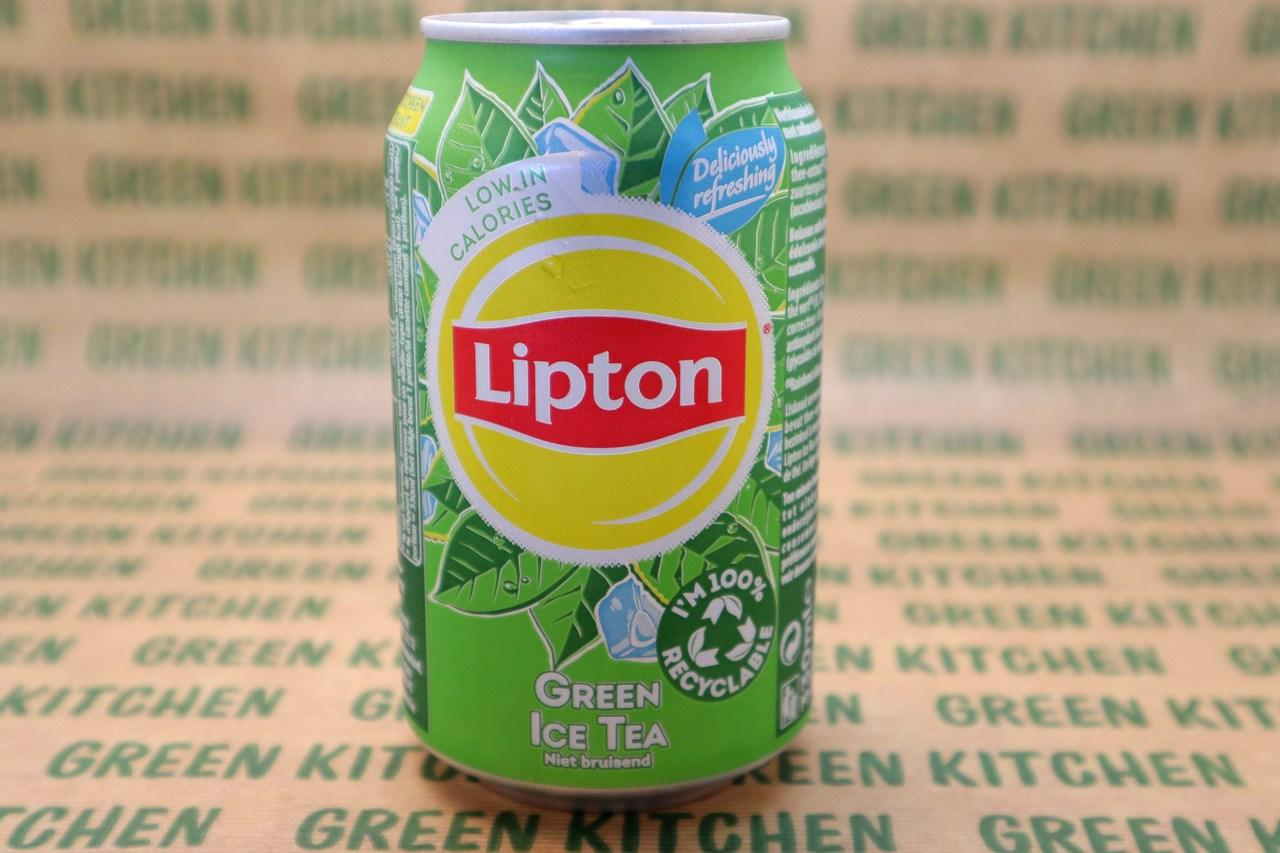metal: (377, 10, 827, 807)
